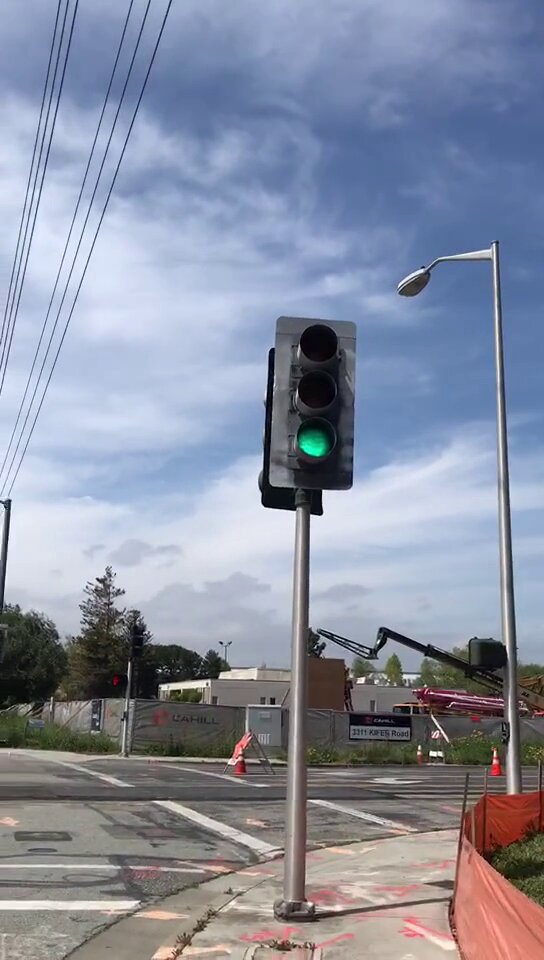green_light: (276, 322, 353, 489)
